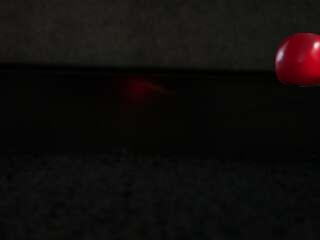Tomato: (274, 33, 320, 87)
